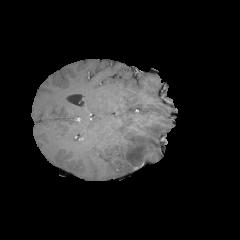glioma: (117, 108, 165, 166)
